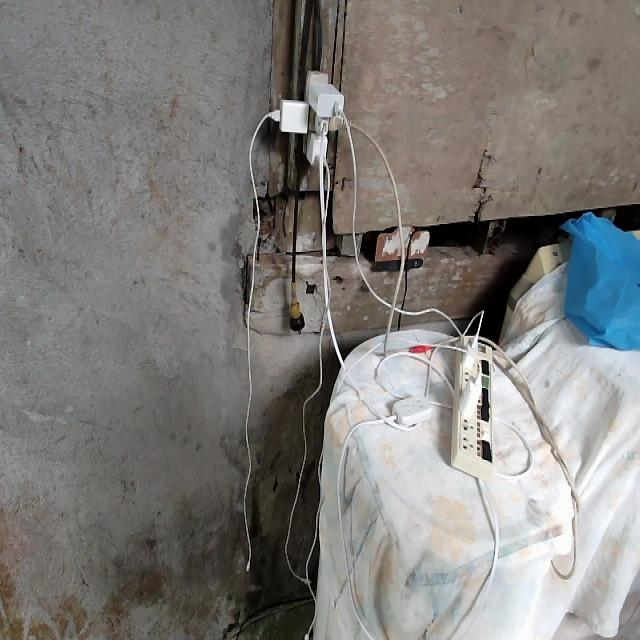-: (270, 68, 353, 167)
